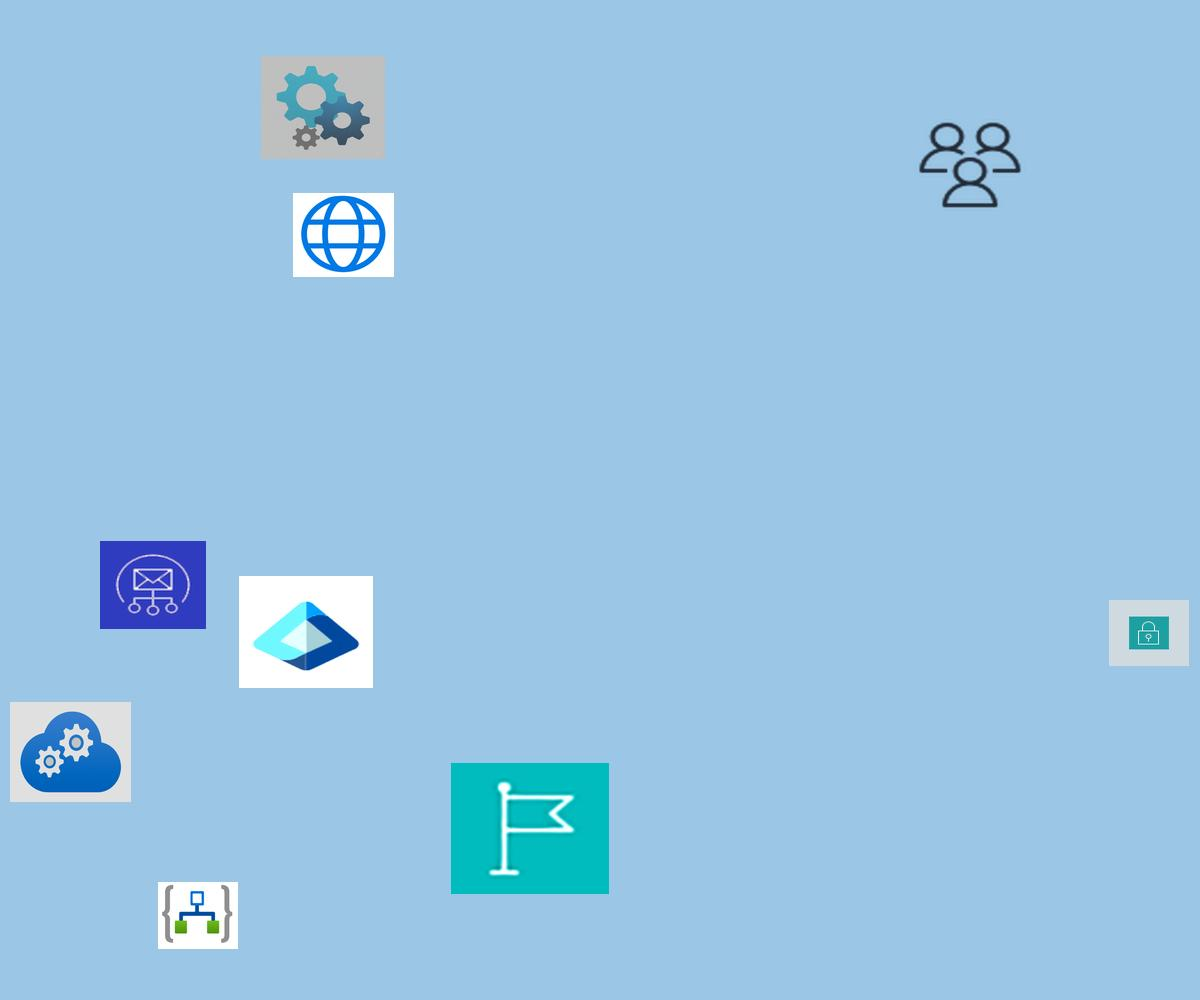AWS-Private-subnet: (1109, 600, 1189, 666)
AWS-Region: (451, 763, 609, 894)
AWS-Res_Users: (915, 119, 1025, 211)
AWS-Simple-Email-Service: (100, 541, 206, 629)
Azure_api: (261, 56, 385, 159)
Azure_cloud_services: (10, 702, 131, 802)
Azure_http: (293, 193, 394, 277)
Azure_integration-204-Logic-Apps: (158, 882, 238, 949)
Azure_microsoft_entra: (239, 576, 373, 688)
